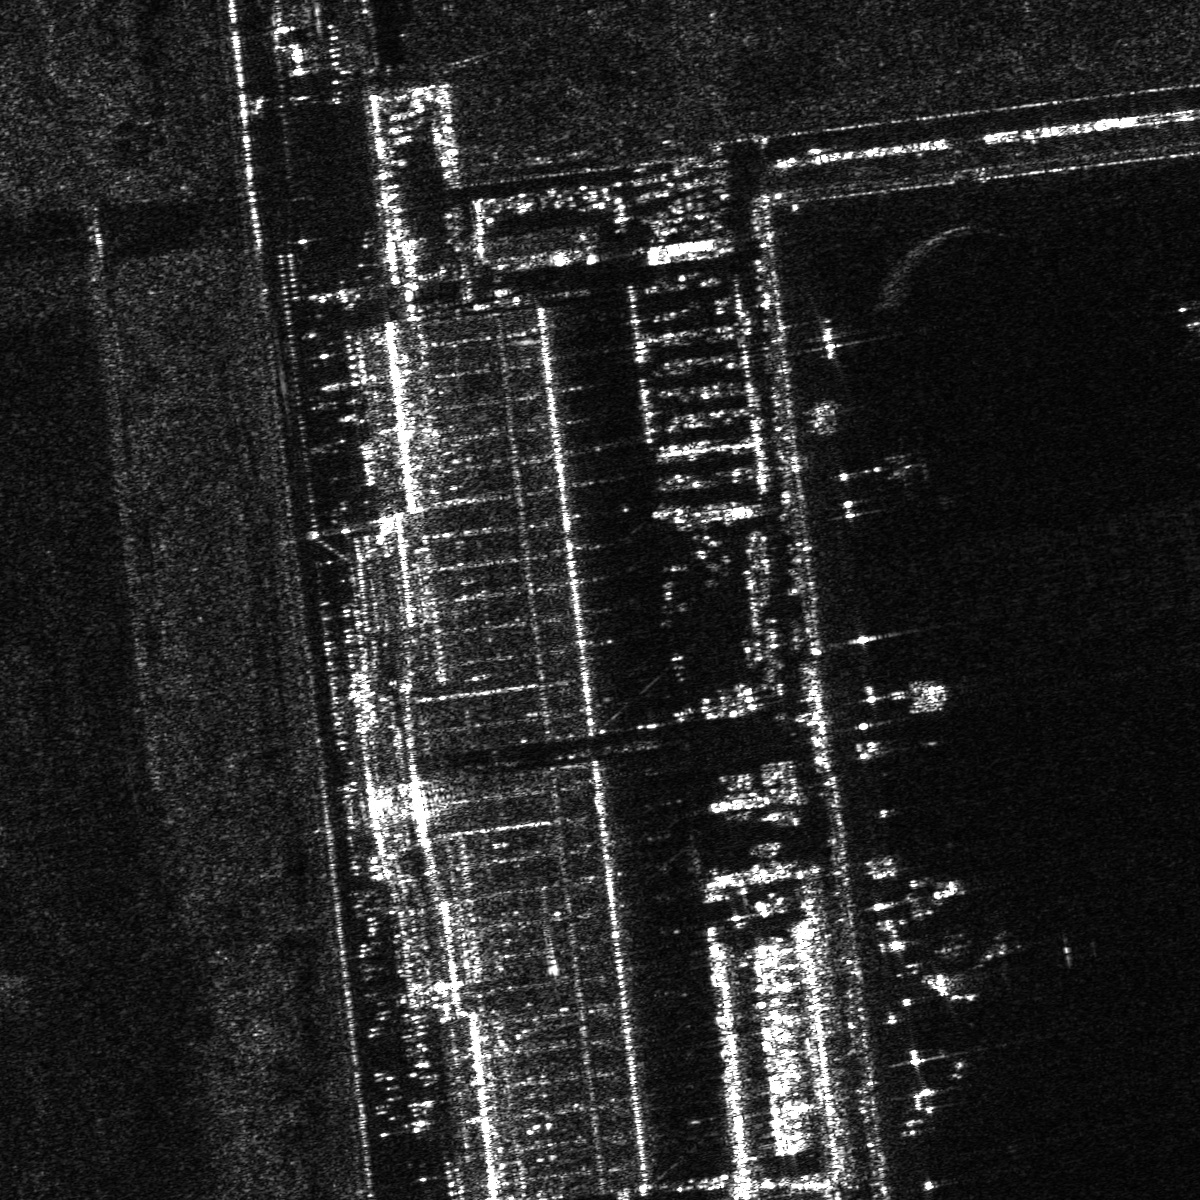A220: (1168, 303, 1199, 362)
